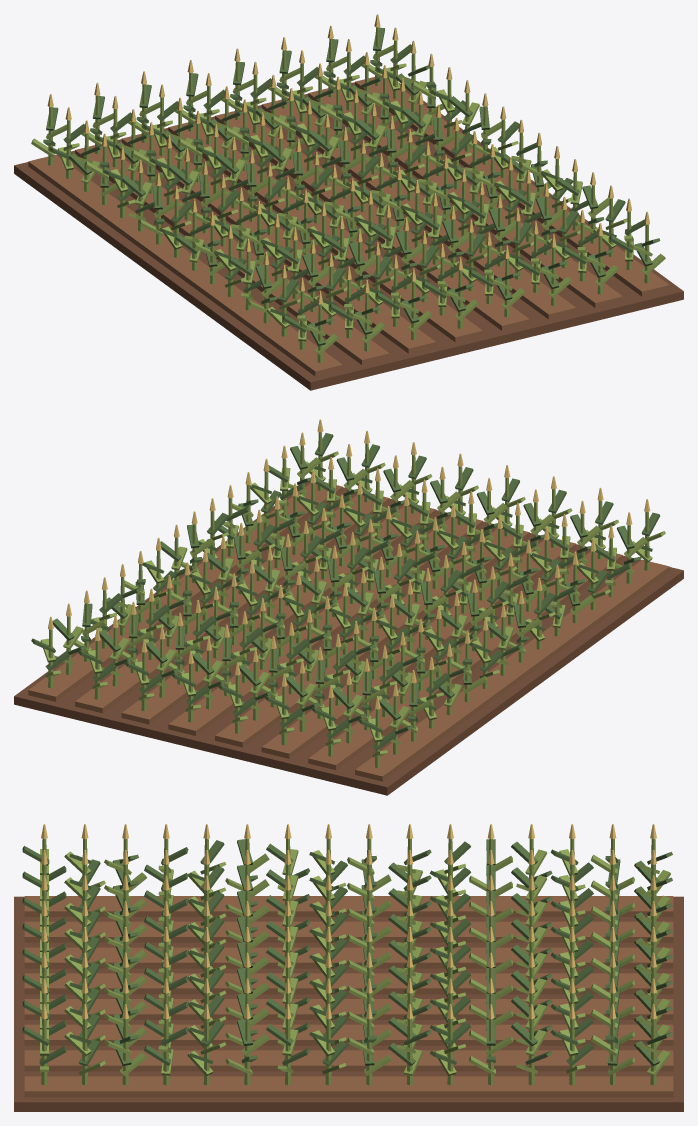
File: field_corn.glb
The picture shows the model from 3 angles, top to bottom: view 1: azimuth 30°, elevation 25°; view 2: azimuth 150°, elevation 25°; view 3: azimuth 270°, elevation 25°; orthographic projection. The views are drawn at different scales.
Visible parts, largest first — view 1: field_corn; view 2: field_corn; view 3: field_corn.
Boxes of the visible parts, x1=… form: field_corn: x1=14, y1=14, x2=683, y2=390; field_corn: x1=14, y1=419, x2=683, y2=795; field_corn: x1=14, y1=824, x2=683, y2=1111.
Bounding box in the file's own units: 8 × 1.71 × 11.
